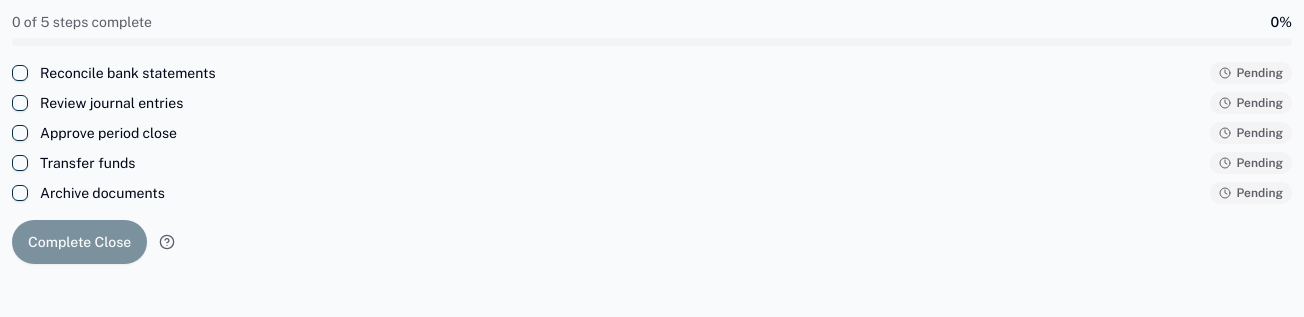
Test: CloseChecklist › shows error when advanceStep fails
The image size is (1304, 317).
What coordinates should you click on to do the following:
click the checkbox named "Reconcile bank statements" next to "Reconcile bank statements"
I would click on:
 (20, 73)
Its box is left=12, top=65, right=28, bottom=81.
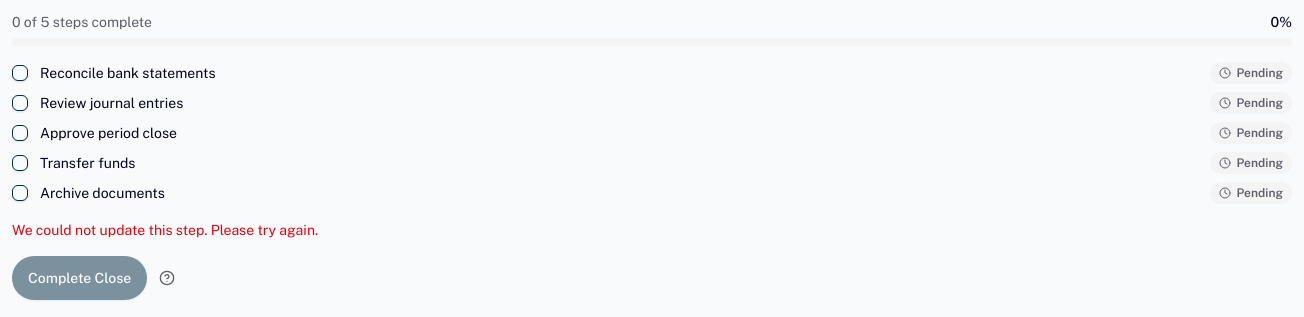
Check: the text "We could not update this step. Please try again." is shown, box left=12, top=222, right=318, bottom=238
